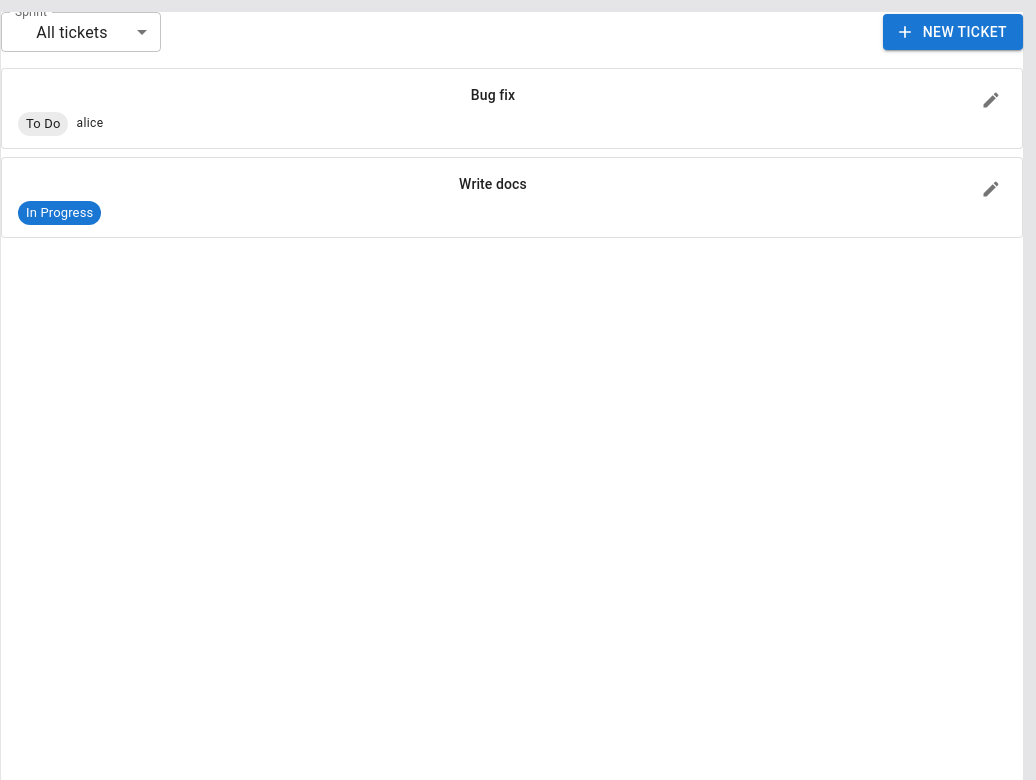
TicketListPanel › shows "No tickets match this filter." when filtering yields no results
Click the dropdown named "sprint".
click(72, 32)  # box [36,22,108,42]
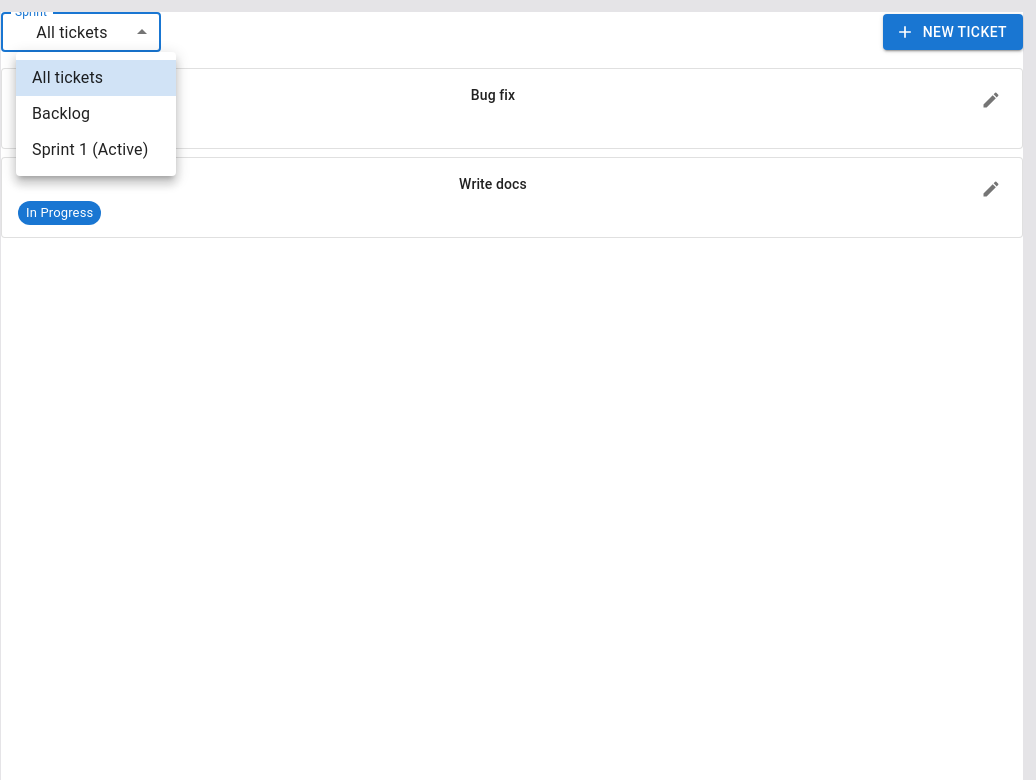
Click the option "Backlog".
click(61, 114)  # box [32,104,90,123]
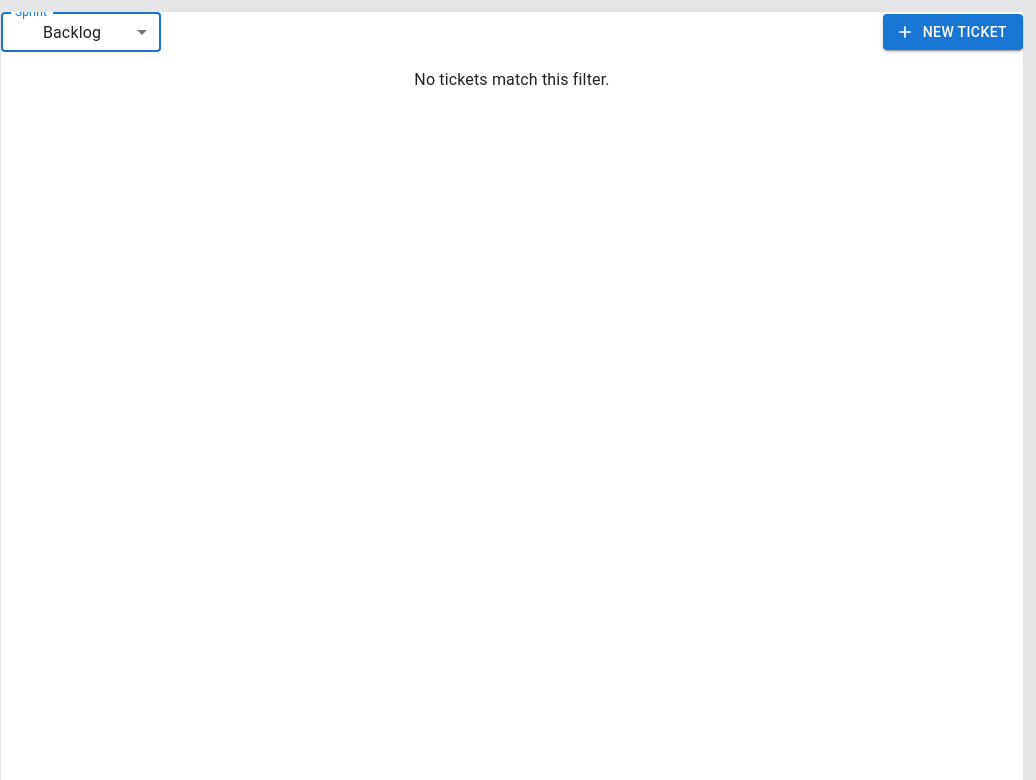
Check: the text "No tickets match this filter." is shown, box [414,70,610,89]
